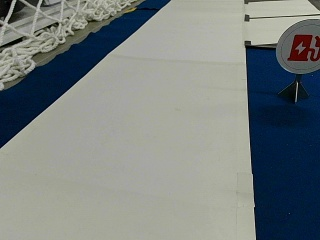battery: (276, 18, 319, 74)
